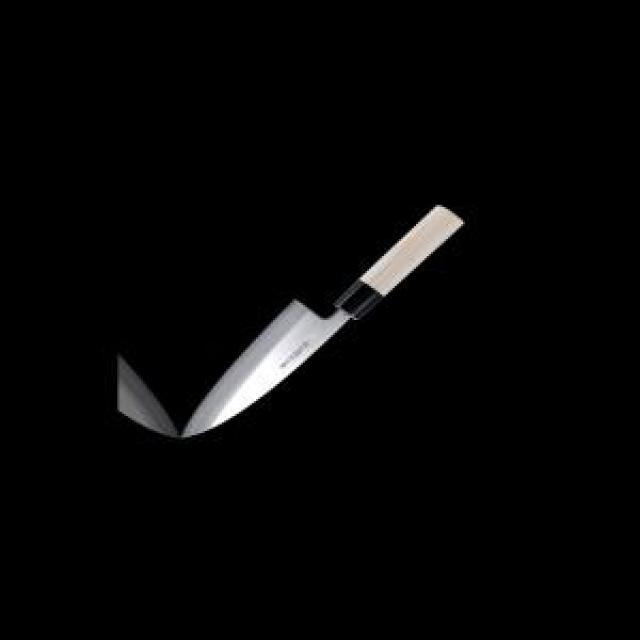knife: (177, 203, 472, 442)
